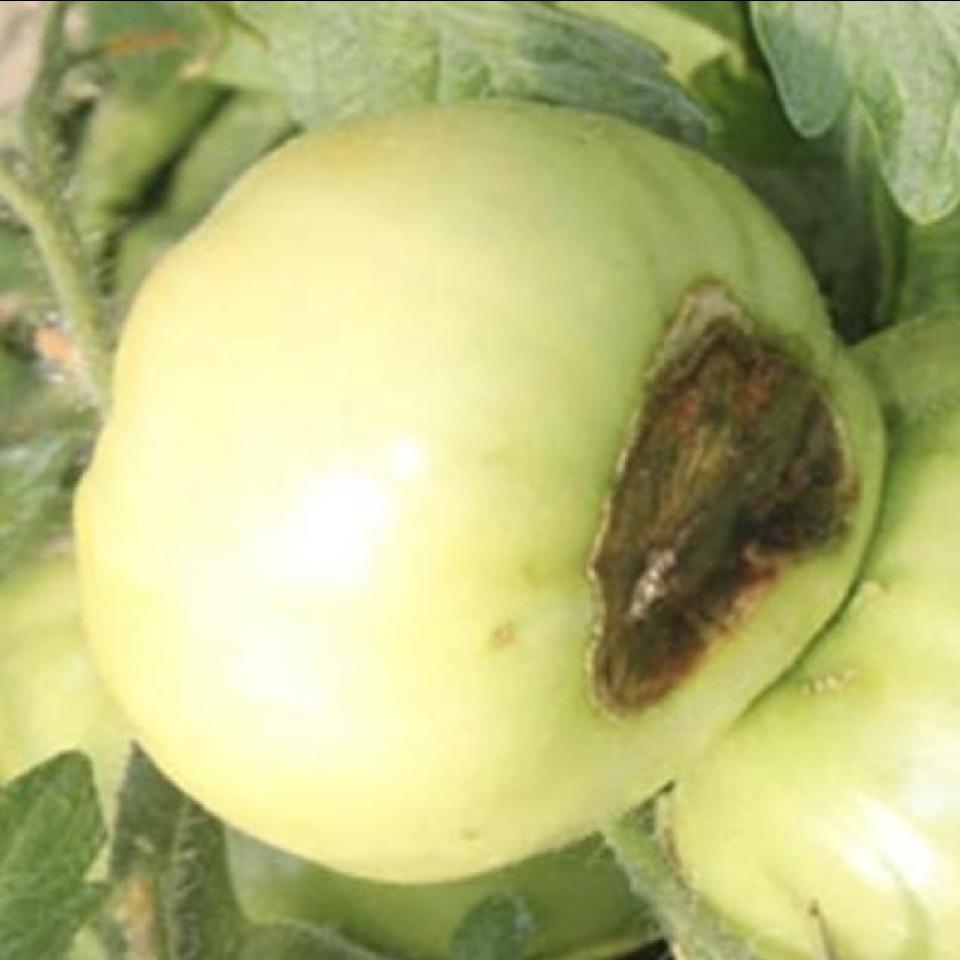Blossom_end_rot: (570, 271, 864, 715)
